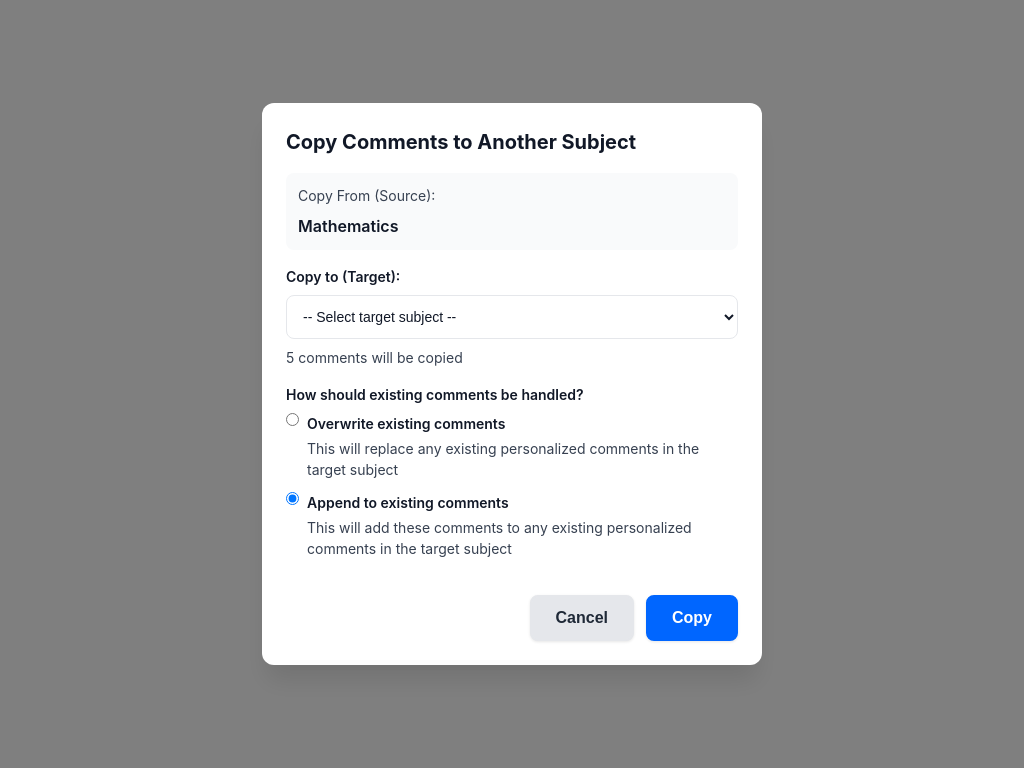
CopyCommentsModal - Validation & Edge Cases (US-CP-005) › AC-5.4: Duplicate Handling › should display success with duplicate count when duplicates detected
Select "Physics" in the dropdown labelled "Copy to (Target):": (512, 317) x1=286 y1=295 x2=738 y2=339
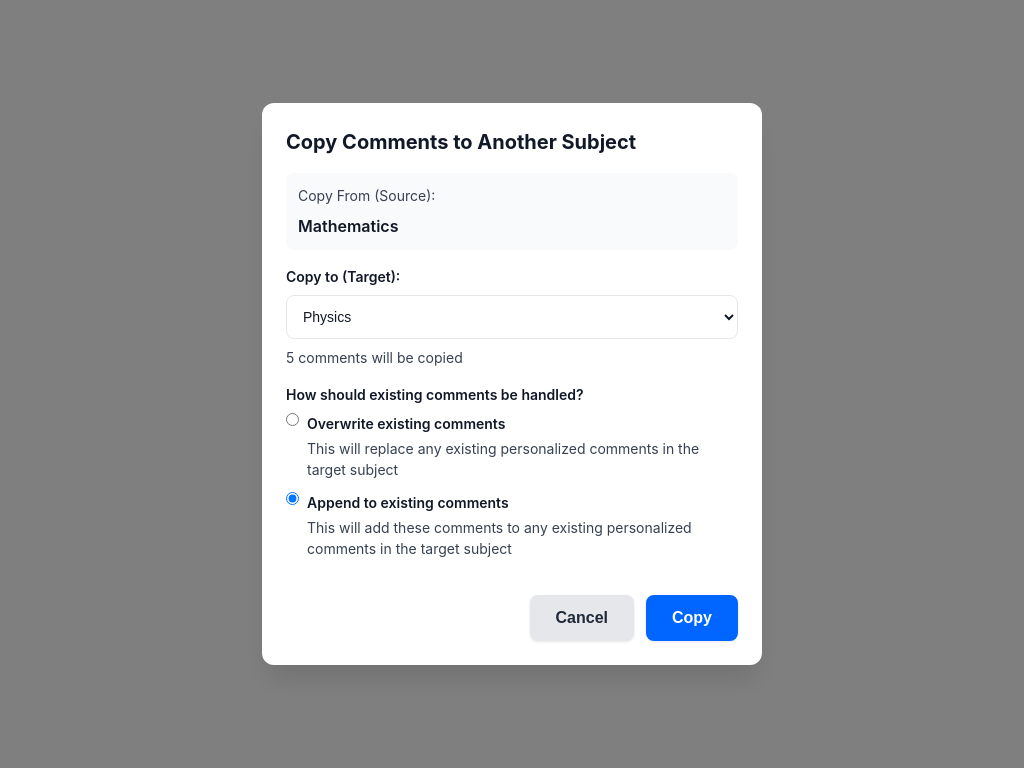
Click the button "Copy": click(692, 618) x1=646 y1=595 x2=738 y2=641
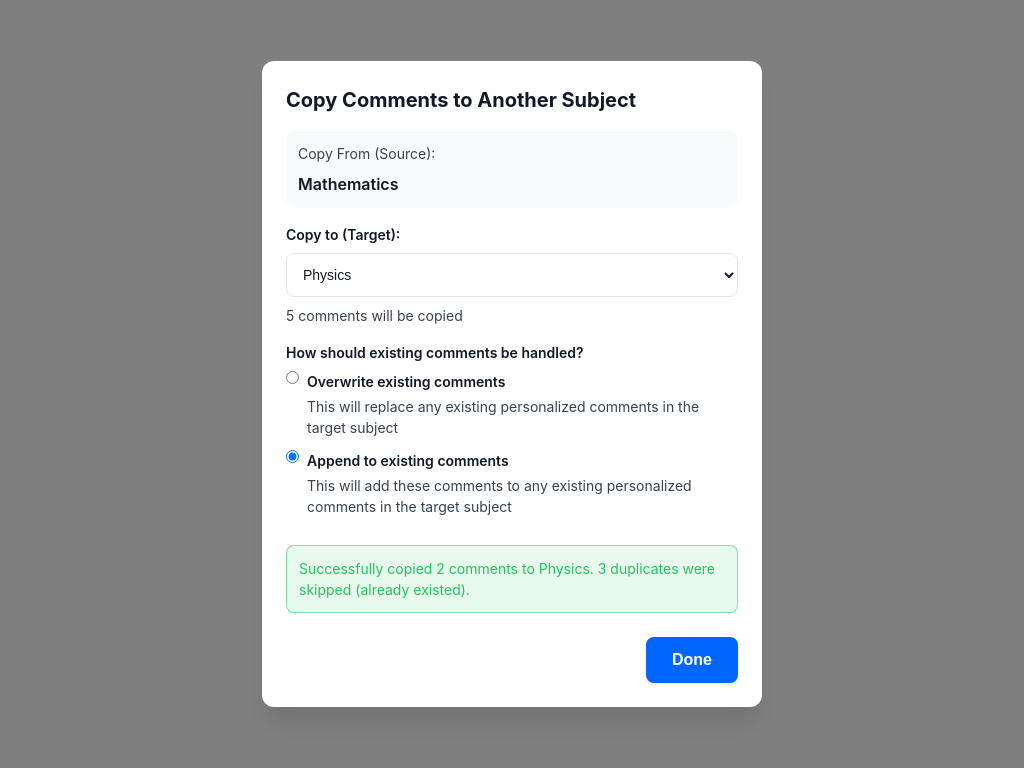
Check: the text "3 duplicates were skipped" is shown, box x1=299 y1=560 x2=715 y2=598
